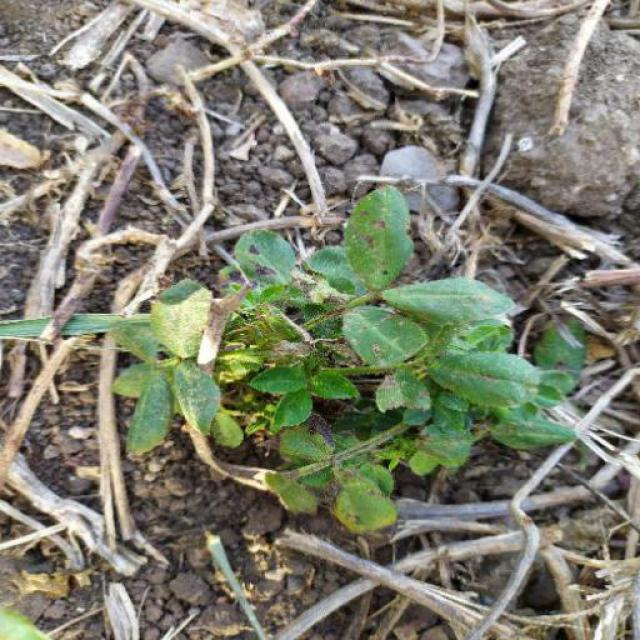weed: (129, 192, 561, 532)
